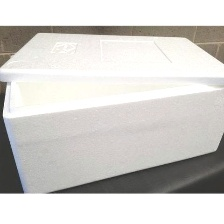foam_box: (0, 27, 224, 193)
